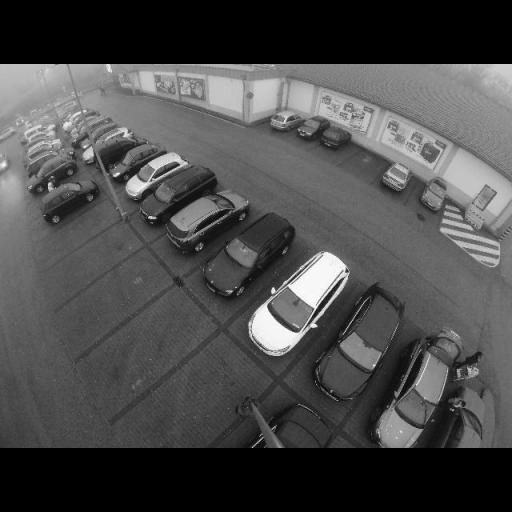busy: (316, 285, 412, 403), (250, 253, 354, 360), (378, 332, 460, 447), (204, 218, 300, 298), (241, 400, 341, 448), (170, 193, 249, 252), (144, 168, 214, 219), (442, 370, 486, 448), (128, 156, 186, 194), (41, 182, 95, 221), (110, 145, 164, 178), (27, 155, 79, 189), (90, 133, 139, 163), (73, 119, 124, 145), (381, 162, 414, 195), (419, 178, 450, 211), (269, 110, 304, 132), (320, 124, 349, 150), (296, 116, 325, 140)
free: (159, 372, 225, 447), (119, 323, 182, 375), (73, 244, 116, 273), (94, 286, 136, 312), (350, 151, 378, 175), (66, 217, 96, 236)
